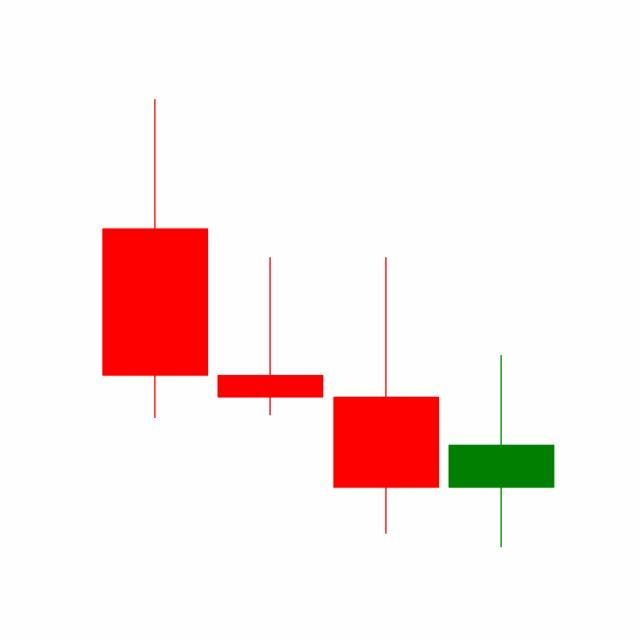Spinning Top: (444, 354, 560, 551)
